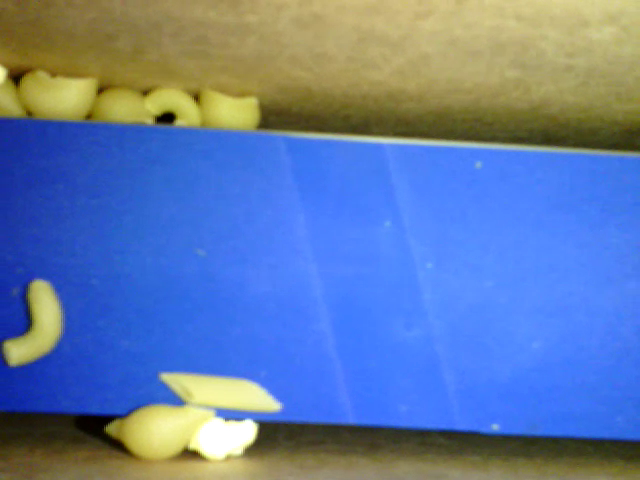elbow: (3, 279, 63, 367), (142, 86, 205, 125)
penne: (158, 371, 285, 412)
shell: (104, 403, 216, 461), (16, 68, 98, 119), (197, 84, 259, 128), (90, 85, 157, 124)
